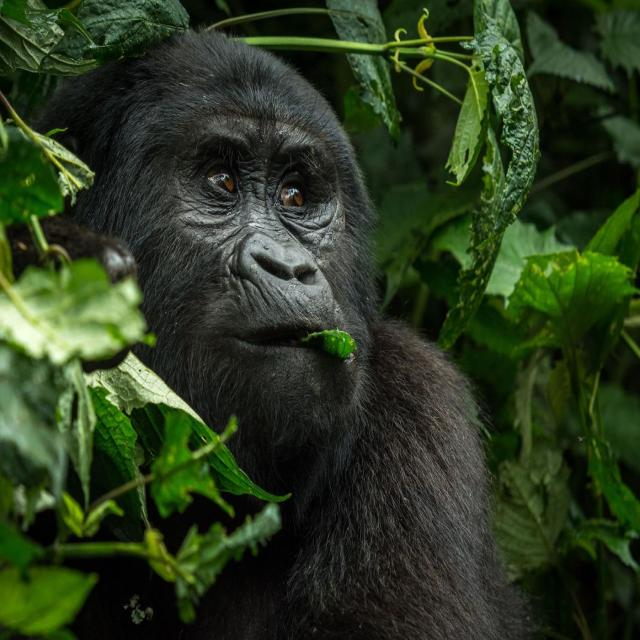Gorilla: (37, 11, 520, 633)
